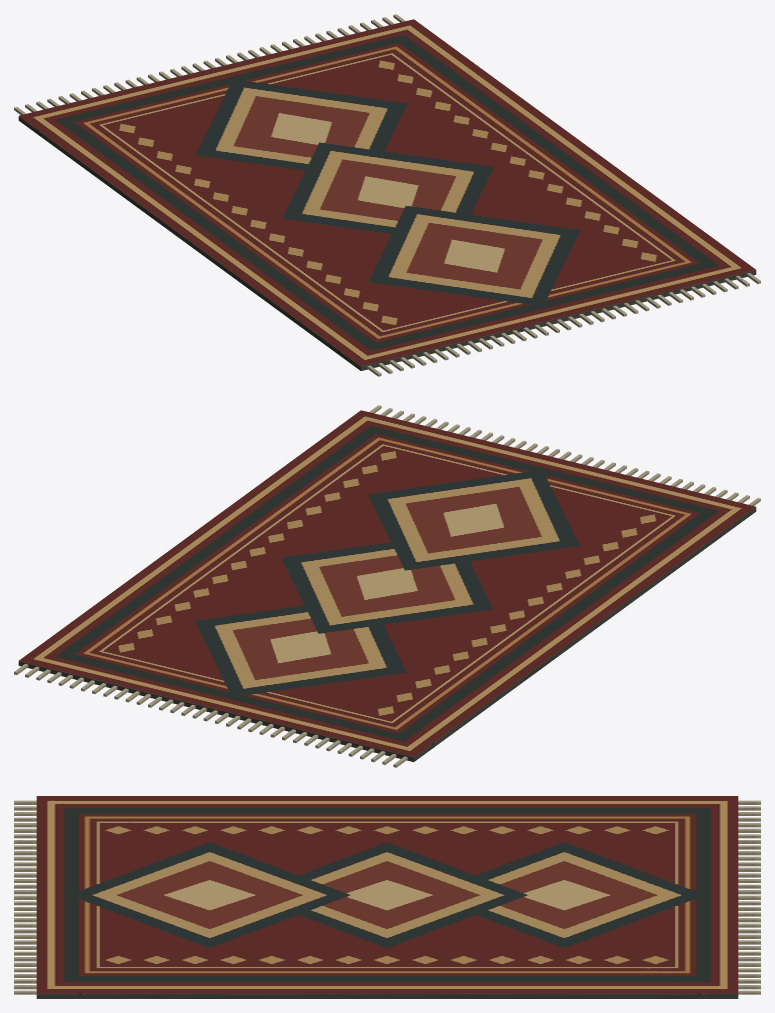
Rendered from CIS_Rug.glb.
3 views of the same model, one above another, from view 1: azimuth 30°, elevation 25°; view 2: azimuth 150°, elevation 25°; view 3: azimuth 270°, elevation 25° (orthographic). The views are drawn at different scales.
Visible parts, largest first — view 1: CIS_Rug; view 2: CIS_Rug; view 3: CIS_Rug.
Part boxes in pixels (box(x1,y1,x2,y2)): CIS_Rug: box(14, 14, 760, 376); CIS_Rug: box(14, 405, 760, 767); CIS_Rug: box(14, 796, 760, 998).
Size of the model in its own units: 1.5 by 0.018 by 2.39.
3 materials, 3 textured.
